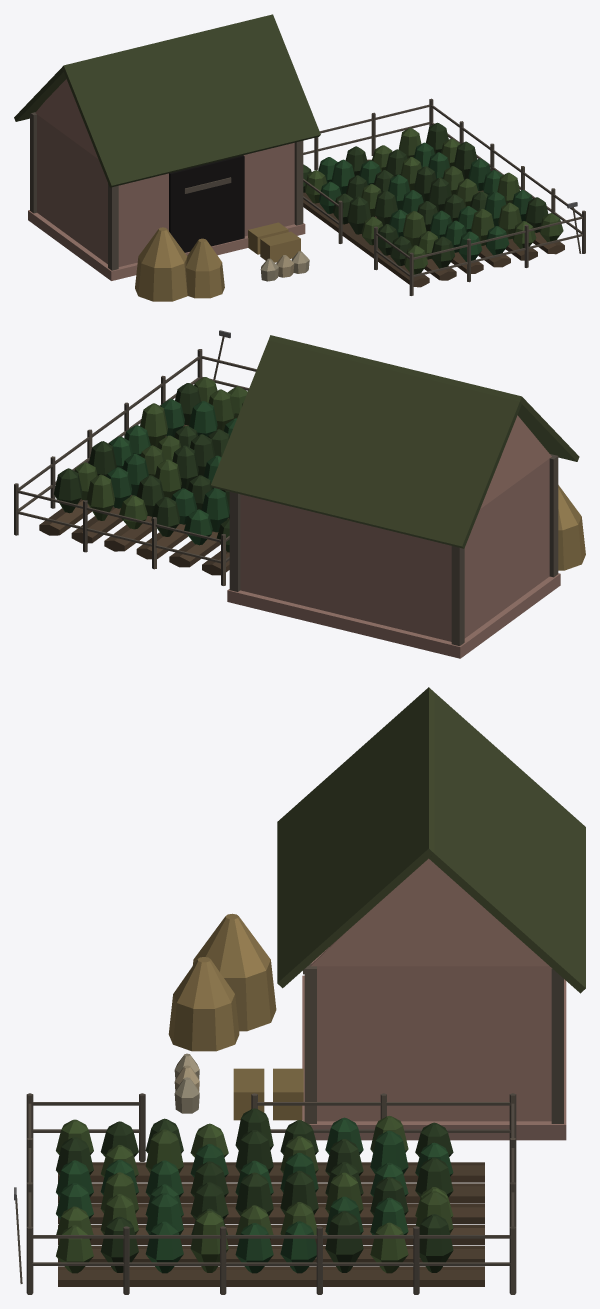
Rendered from walk_reef_plantation.glb.
The picture shows the model from 3 angles, top to bottom: view 1: azimuth 30°, elevation 25°; view 2: azimuth 150°, elevation 25°; view 3: azimuth 270°, elevation 25°; orthographic projection. The views are drawn at different scales.
Parts seen in each view (by area): view 1: walk_reef_plantation, walk_reef_plantation_roof; view 2: walk_reef_plantation, walk_reef_plantation_roof; view 3: walk_reef_plantation, walk_reef_plantation_roof.
Part boxes in pixels (x1=…): walk_reef_plantation: x1=28, y1=79, x2=585, y2=301; walk_reef_plantation_roof: x1=14, y1=14, x2=320, y2=187; walk_reef_plantation: x1=14, y1=330, x2=585, y2=658; walk_reef_plantation_roof: x1=211, y1=335, x2=579, y2=548; walk_reef_plantation: x1=14, y1=858, x2=566, y2=1294; walk_reef_plantation_roof: x1=277, y1=687, x2=585, y2=993.
Size of what is drawn, in the model's own units: 12.85 by 6.04 by 10.18.
Materials: 2 (2 with a texture image).
